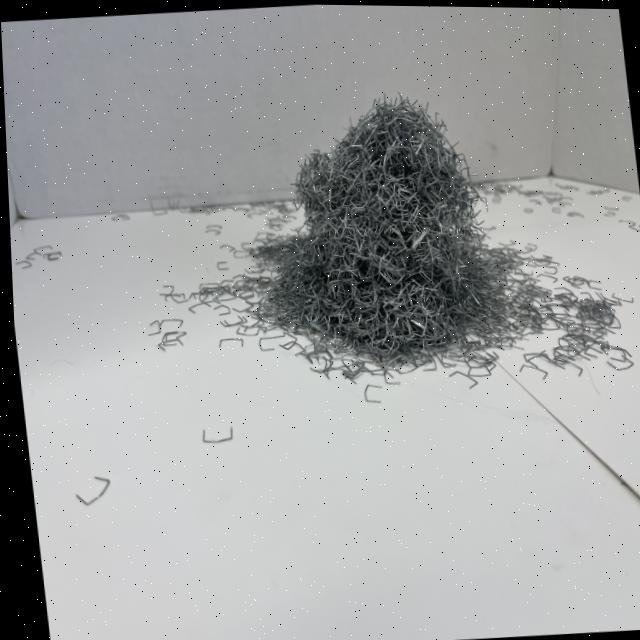staples: (235, 82, 509, 372)
